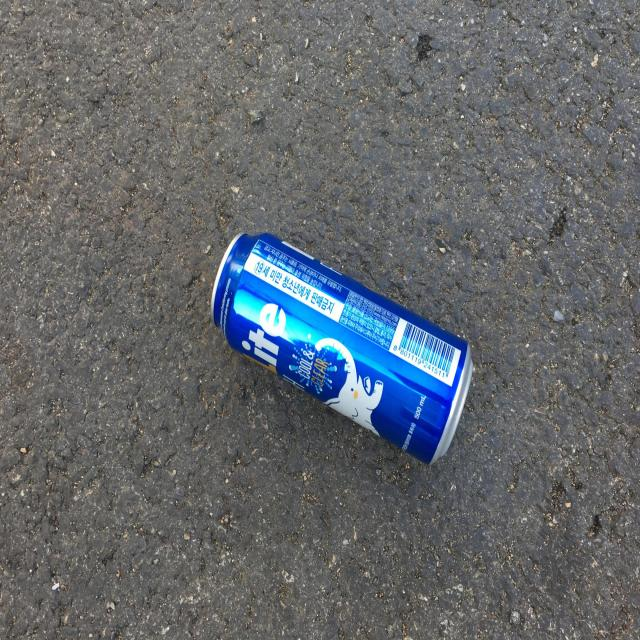can: (210, 233, 474, 464)
